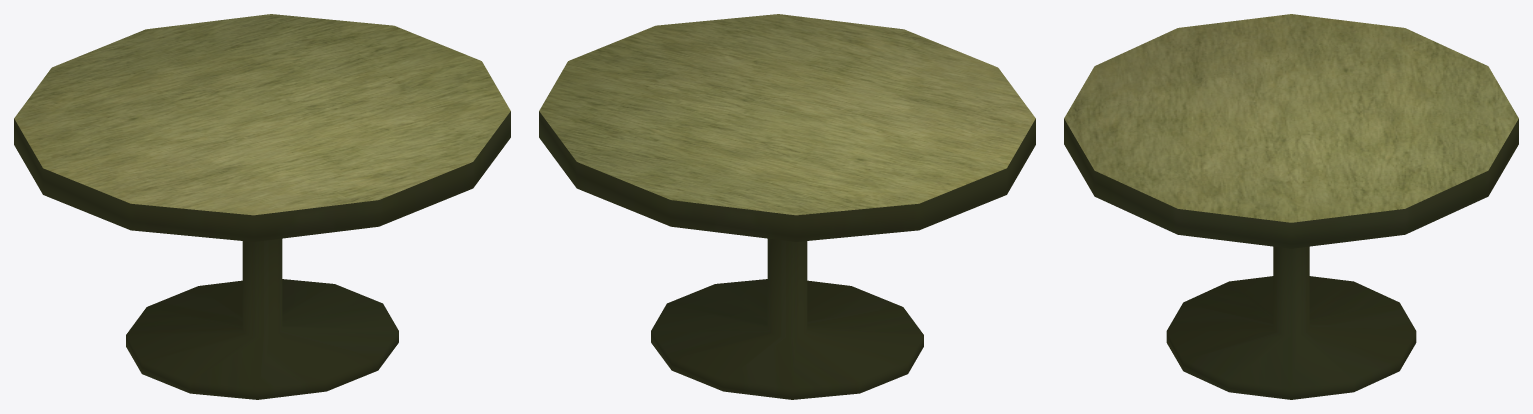
The model's file is desk.glb.
3 renders of one model, left to right at view 1: azimuth 30°, elevation 25°; view 2: azimuth 150°, elevation 25°; view 3: azimuth 270°, elevation 25°, orthographic. The views are drawn at different scales.
Visible parts, largest first — view 1: desk; view 2: desk; view 3: desk.
Part boxes in pixels (left/top/right/bottom): desk: left=14, top=14, right=510, bottom=399; desk: left=539, top=14, right=1035, bottom=399; desk: left=1064, top=14, right=1518, bottom=399.
Size of the model in its own units: 1.89 by 0.9438 by 1.74.
Materials: 1 (1 with a texture image).
